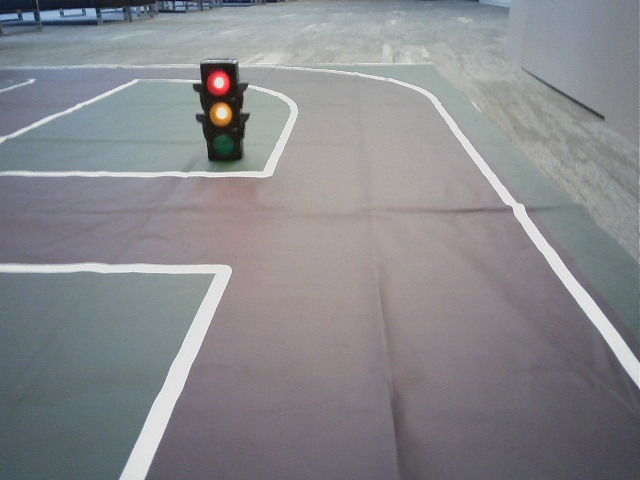red: (200, 65, 240, 160)
